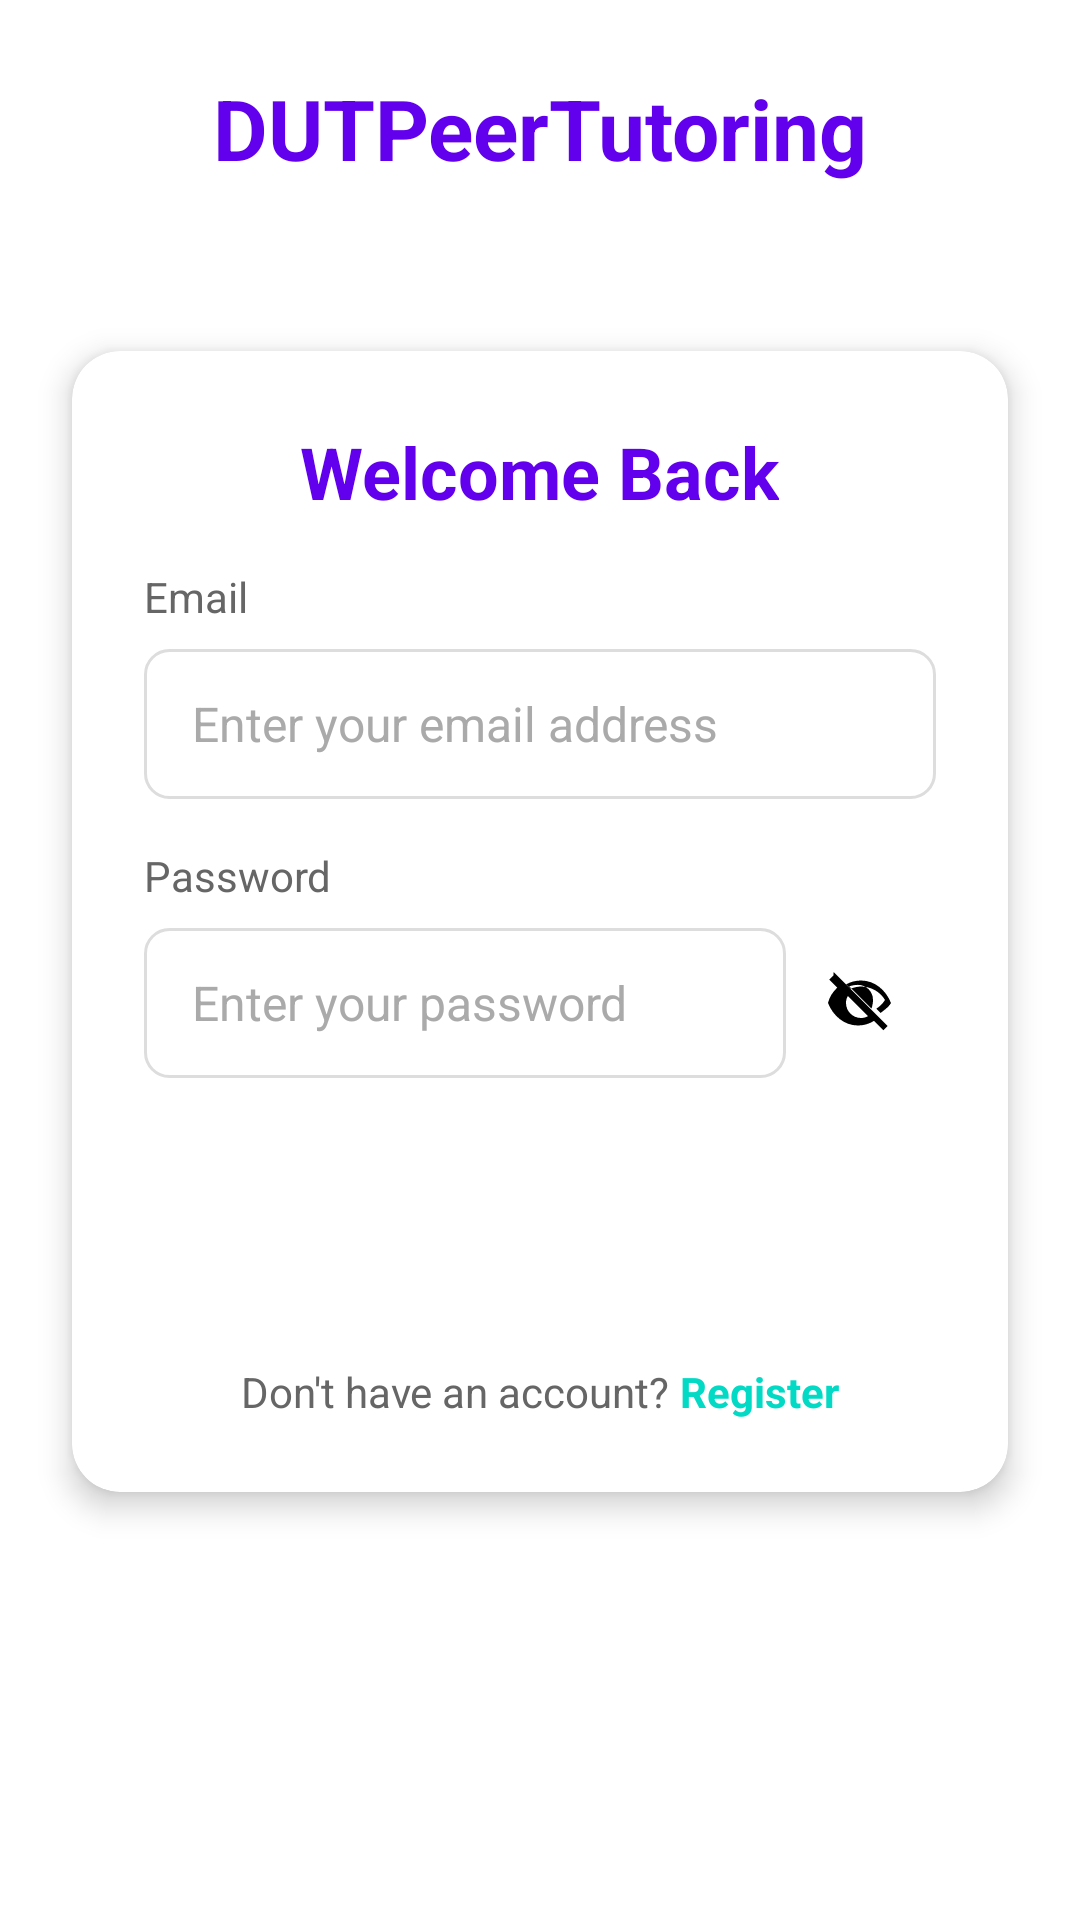

Named icons in this screenshot (1080px x 1920px) and their bounding boxes, Rect(x1, y1, x2, y2):
Toggle Password Visibility: Rect(828, 972, 891, 1030)
